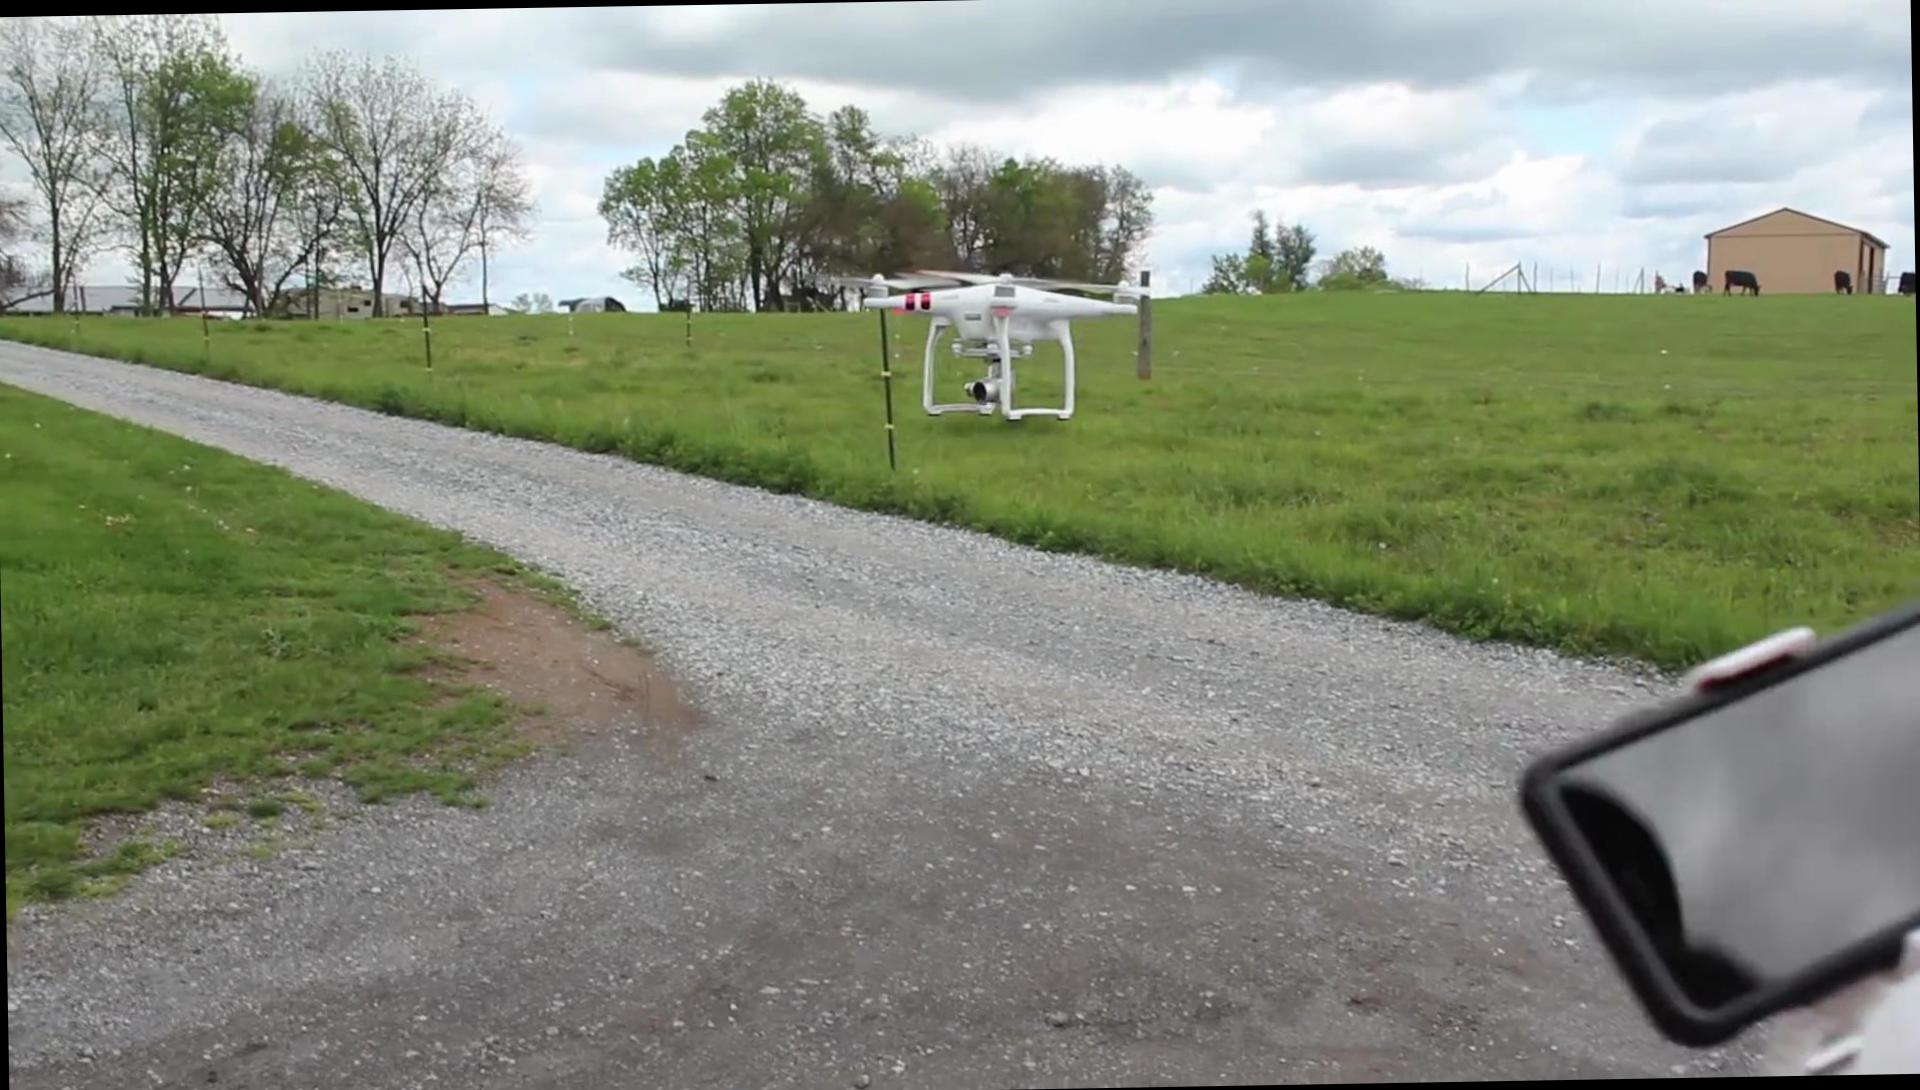drone: (852, 258, 1145, 424)
